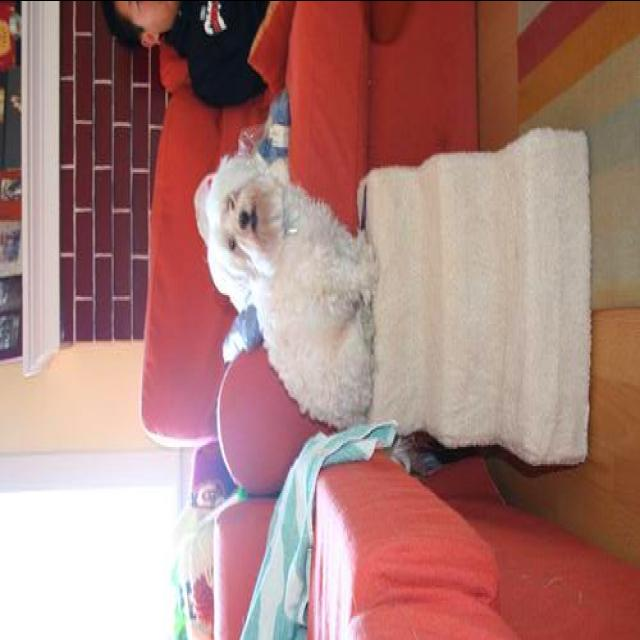maltese_dog: (202, 146, 380, 432)
